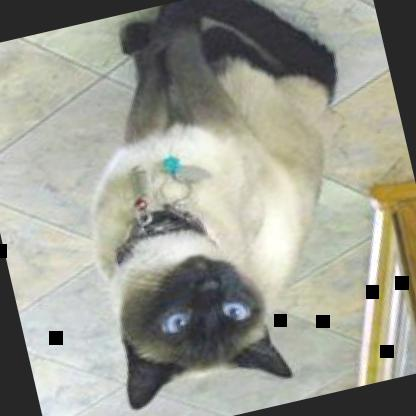cat: (41, 0, 407, 415)
